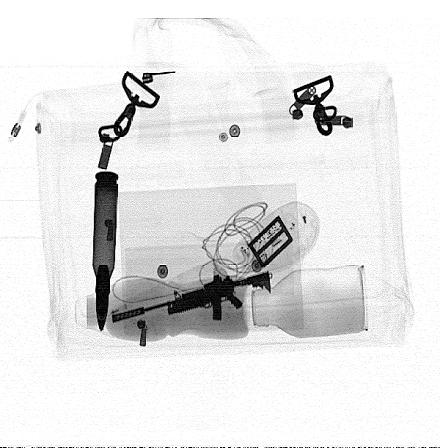Bullet: (92, 171, 119, 332)
Gun: (111, 270, 272, 322)
